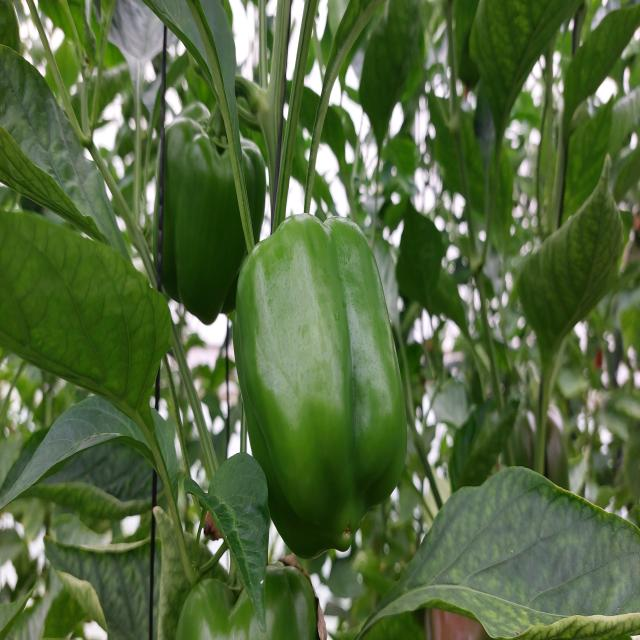BrownishRed--Can-be-Harvested: (234, 212, 414, 561)
Green--Not-ready-to-harvest: (237, 219, 418, 549), (152, 102, 264, 316)
